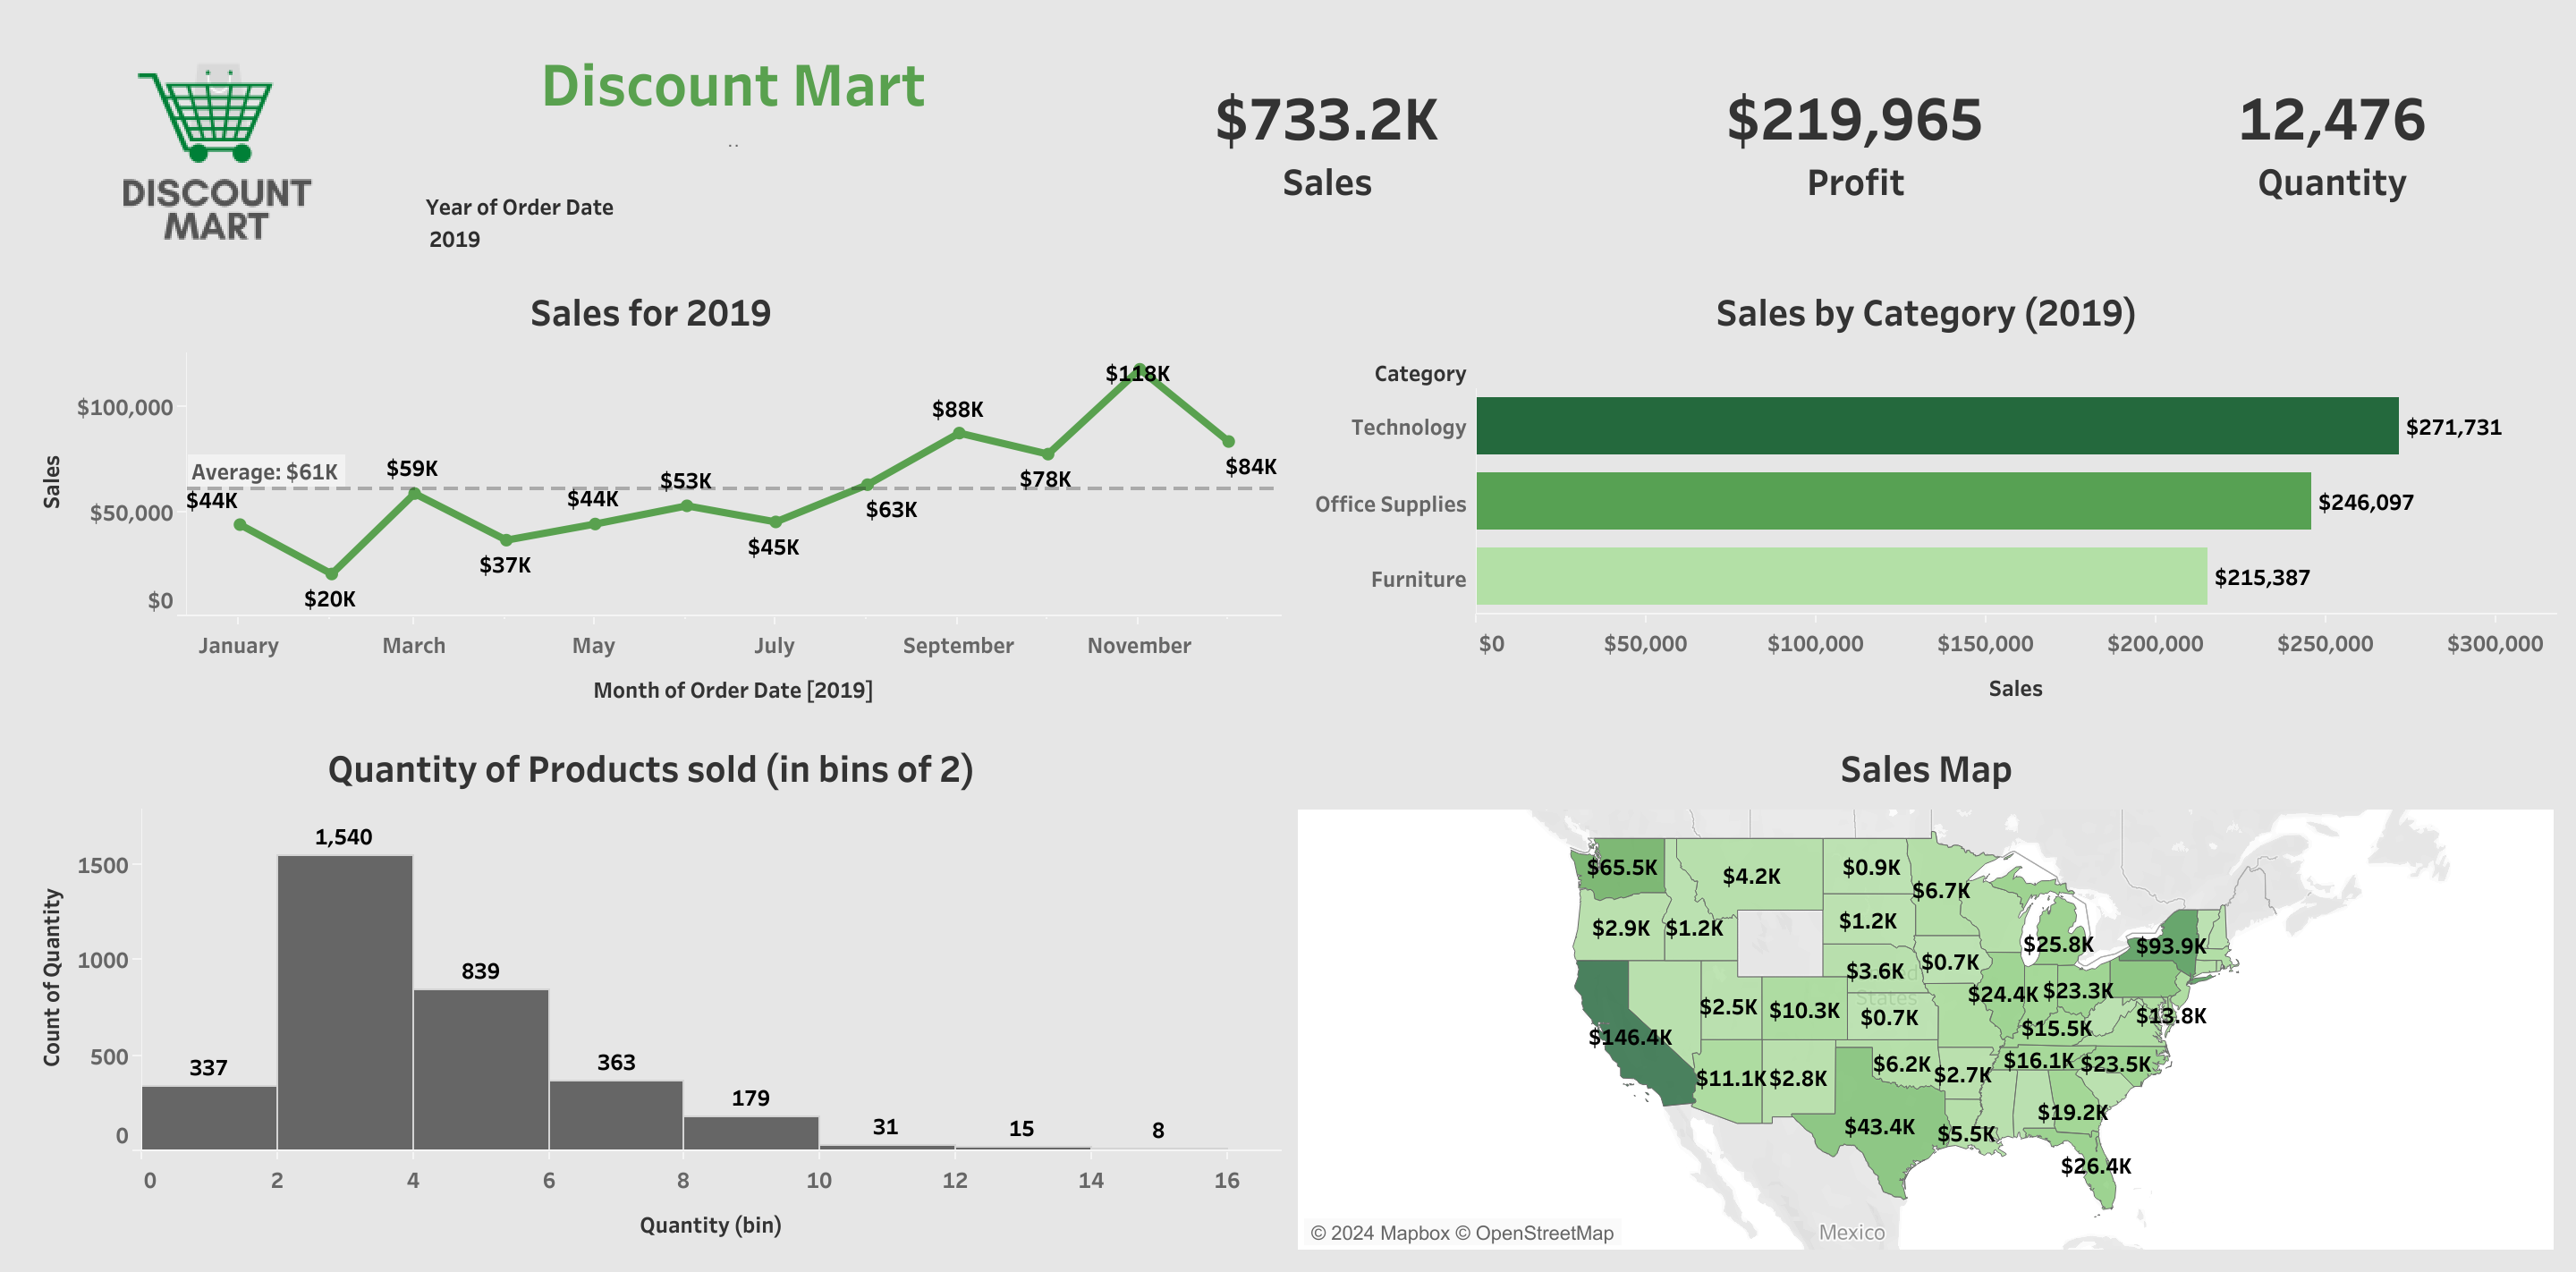

This screenshot's page, from the dashboard's own definition file:
{"tool":"tableau","page":{"name":"Discount Mart Sales Analytics","canvas":[1000,1000],"units":"permille","ordinal":1},"visuals":[{"type":"image","param":"/Users/nithyasreekusakula/Documents/Tableau Projects/DiscoveryMart/Discount+Mart","box":[7.6,10.6,156.1,199.2]},{"type":"text","box":[163.7,10.6,243.2,130.2]},{"type":"worksheet","title":"Sales Card","mark":"Automatic","box":[406.9,10.6,216.3,199.2]},{"type":"worksheet","title":"Profit Card","mark":"Automatic","box":[623.2,10.6,191.9,199.2]},{"type":"worksheet","title":"Quantity Card","mark":"Automatic","box":[815.1,10.6,177.3,199.2]},{"type":"filter","title":"Yearly Sales","param":"[federated.1sutdso0sfz0p11ekl2yz0hx9icc].[yr:Order Date:ok]","box":[163.7,140.8,243.2,69.1]},{"type":"worksheet","title":"Yearly Sales","mark":"Automatic","rows":["Sales"],"cols":["Order Date"],"box":[7.6,209.8,492.4,358.6]},{"type":"worksheet","title":"Sales by Category","mark":"Automatic","rows":["Category"],"cols":["Sales"],"box":[500,209.8,492.4,358.6]},{"type":"worksheet","title":"Products sold per order","mark":"Automatic","rows":["Quantity"],"cols":["Quantity (bin)"],"box":[7.6,568.4,492.4,421]},{"type":"worksheet","title":"Sales Map","mark":"Automatic","box":[500,568.4,492.4,421]}]}

Visuals, with their boxes on the dashboard's canvas, which has no fixed pixel size, in thousandths of its width and height (x1, y1, x2, y2). These are canvas units, not pixel positions in the 2576x1272 screenshot, which may show the page scaled, cropped or inside an application window:
image: pyautogui.locateOnScreen(8, 11, 164, 210)
text: pyautogui.locateOnScreen(164, 11, 407, 141)
"Sales Card" worksheet: pyautogui.locateOnScreen(407, 11, 623, 210)
"Profit Card" worksheet: pyautogui.locateOnScreen(623, 11, 815, 210)
"Quantity Card" worksheet: pyautogui.locateOnScreen(815, 11, 992, 210)
"Yearly Sales" filter: pyautogui.locateOnScreen(164, 141, 407, 210)
"Yearly Sales" worksheet: pyautogui.locateOnScreen(8, 210, 500, 568)
"Sales by Category" worksheet: pyautogui.locateOnScreen(500, 210, 992, 568)
"Products sold per order" worksheet: pyautogui.locateOnScreen(8, 568, 500, 989)
"Sales Map" worksheet: pyautogui.locateOnScreen(500, 568, 992, 989)
